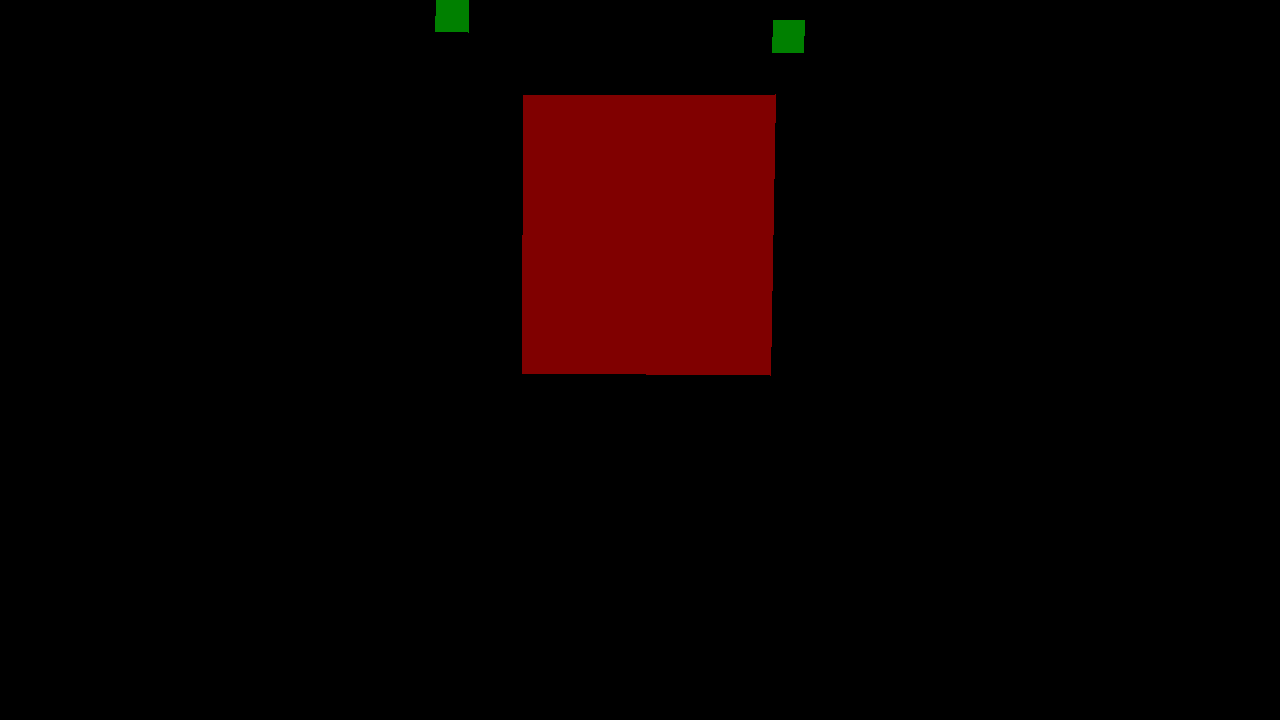door: (522, 94, 775, 375)
sign: (435, 0, 468, 32), (772, 20, 804, 52)
